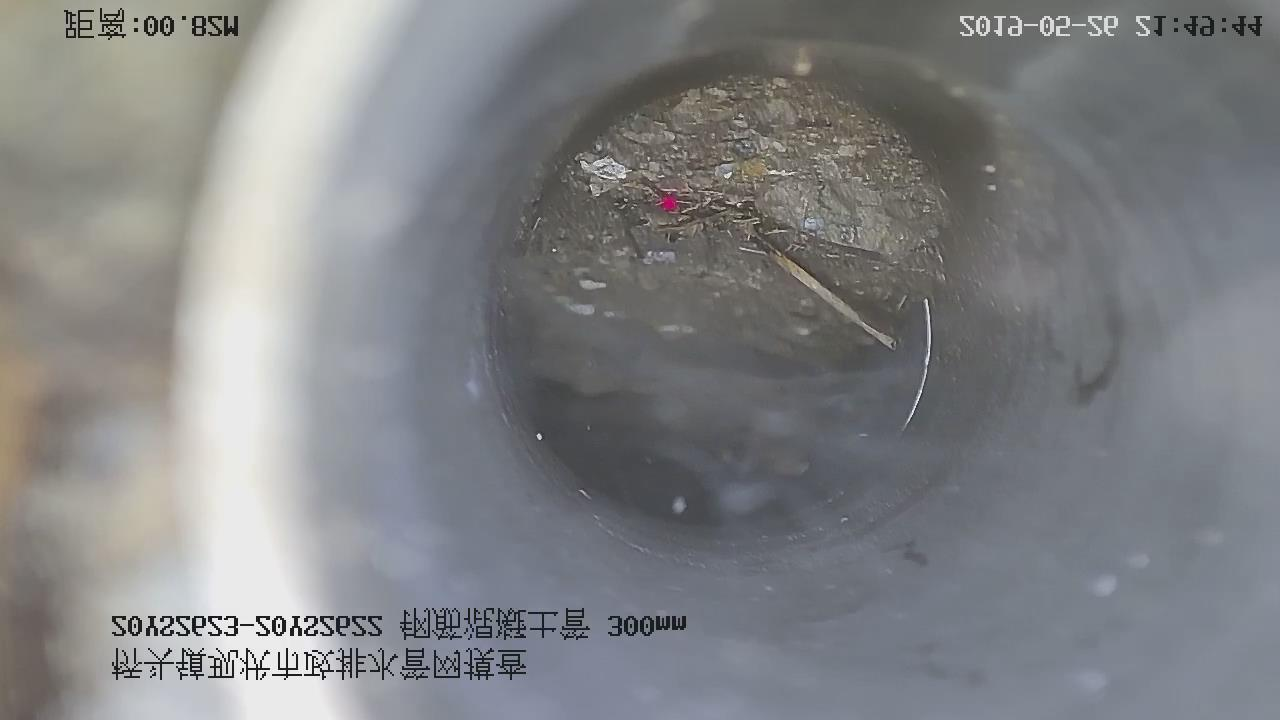CJ: (507, 75, 949, 371)
